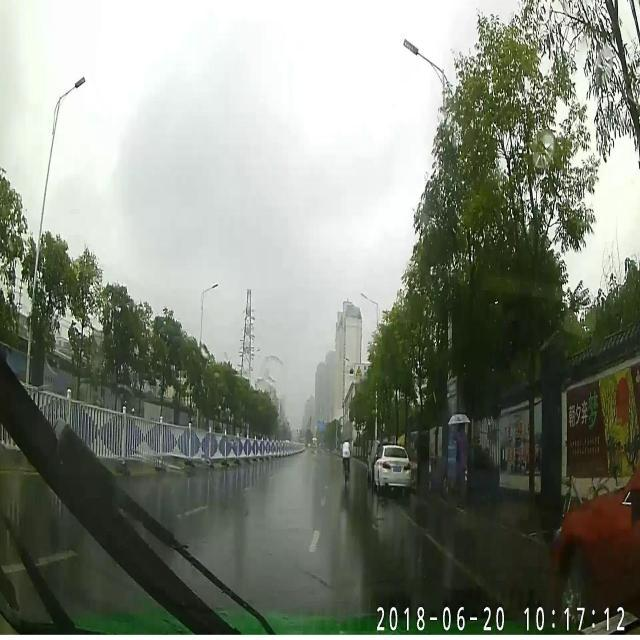car: (374, 443, 412, 494)
